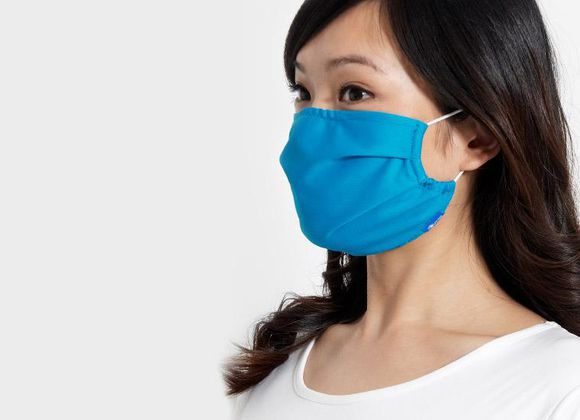face_mask: (281, 1, 463, 258)
